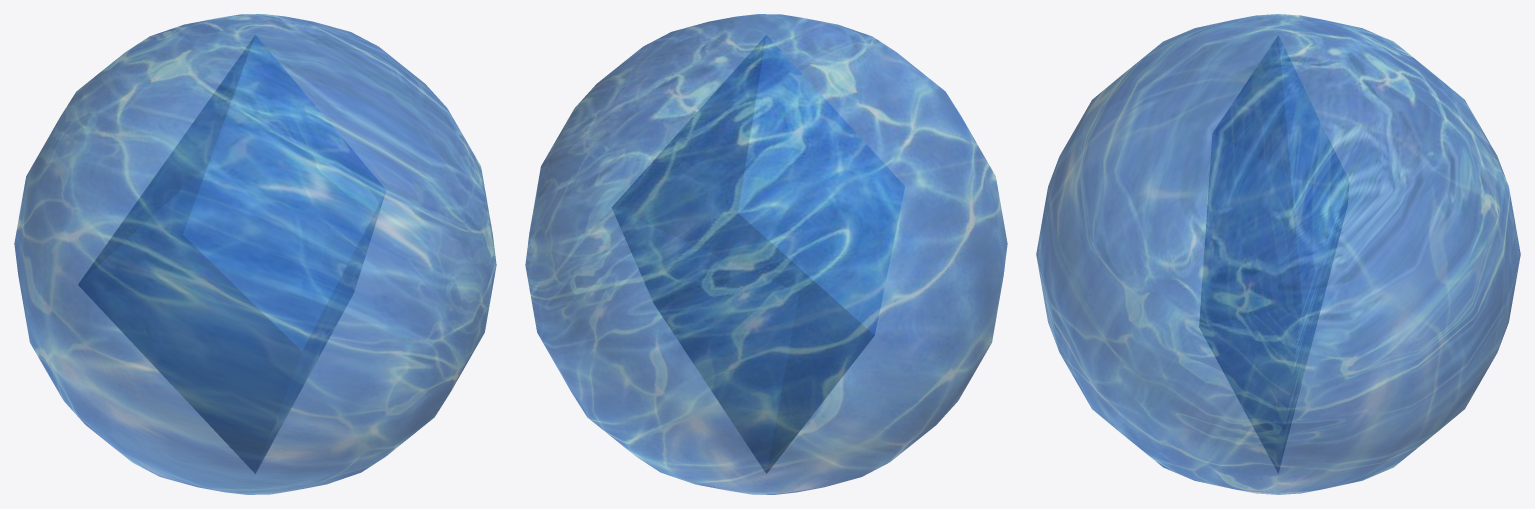
The model's file is AquaChica.fbx.
The picture shows the model from 3 angles, left to right: view 1: azimuth 30°, elevation 25°; view 2: azimuth 150°, elevation 25°; view 3: azimuth 270°, elevation 25°; orthographic projection.
Parts seen in each view (by area): view 1: Aguita; view 2: Aguita; view 3: Aguita.
Boxes of the visible parts, left/top/right/bottom form: Aguita: left=14, top=14, right=496, bottom=494; Aguita: left=525, top=14, right=1007, bottom=494; Aguita: left=1036, top=14, right=1520, bottom=494.
Bounding box in the file's own units: 0.5 × 0.5 × 0.5.
